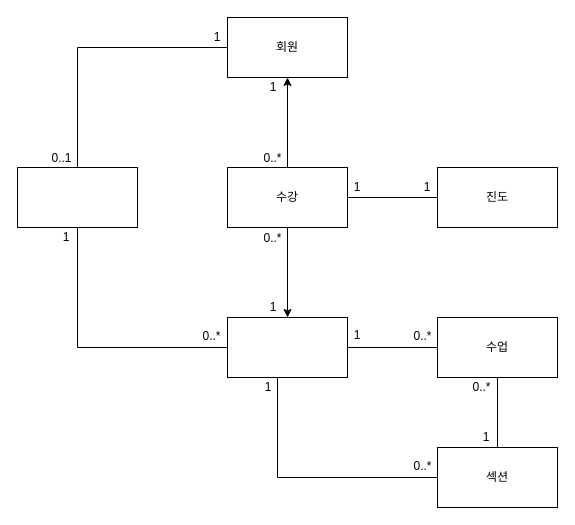
This 575x525 diagram has some shape labels left out. Here are the shapes that lost their labels. From the top down, the centre of each, then its label:
At point 77,197: "강사".
At point 287,347: "강의".
